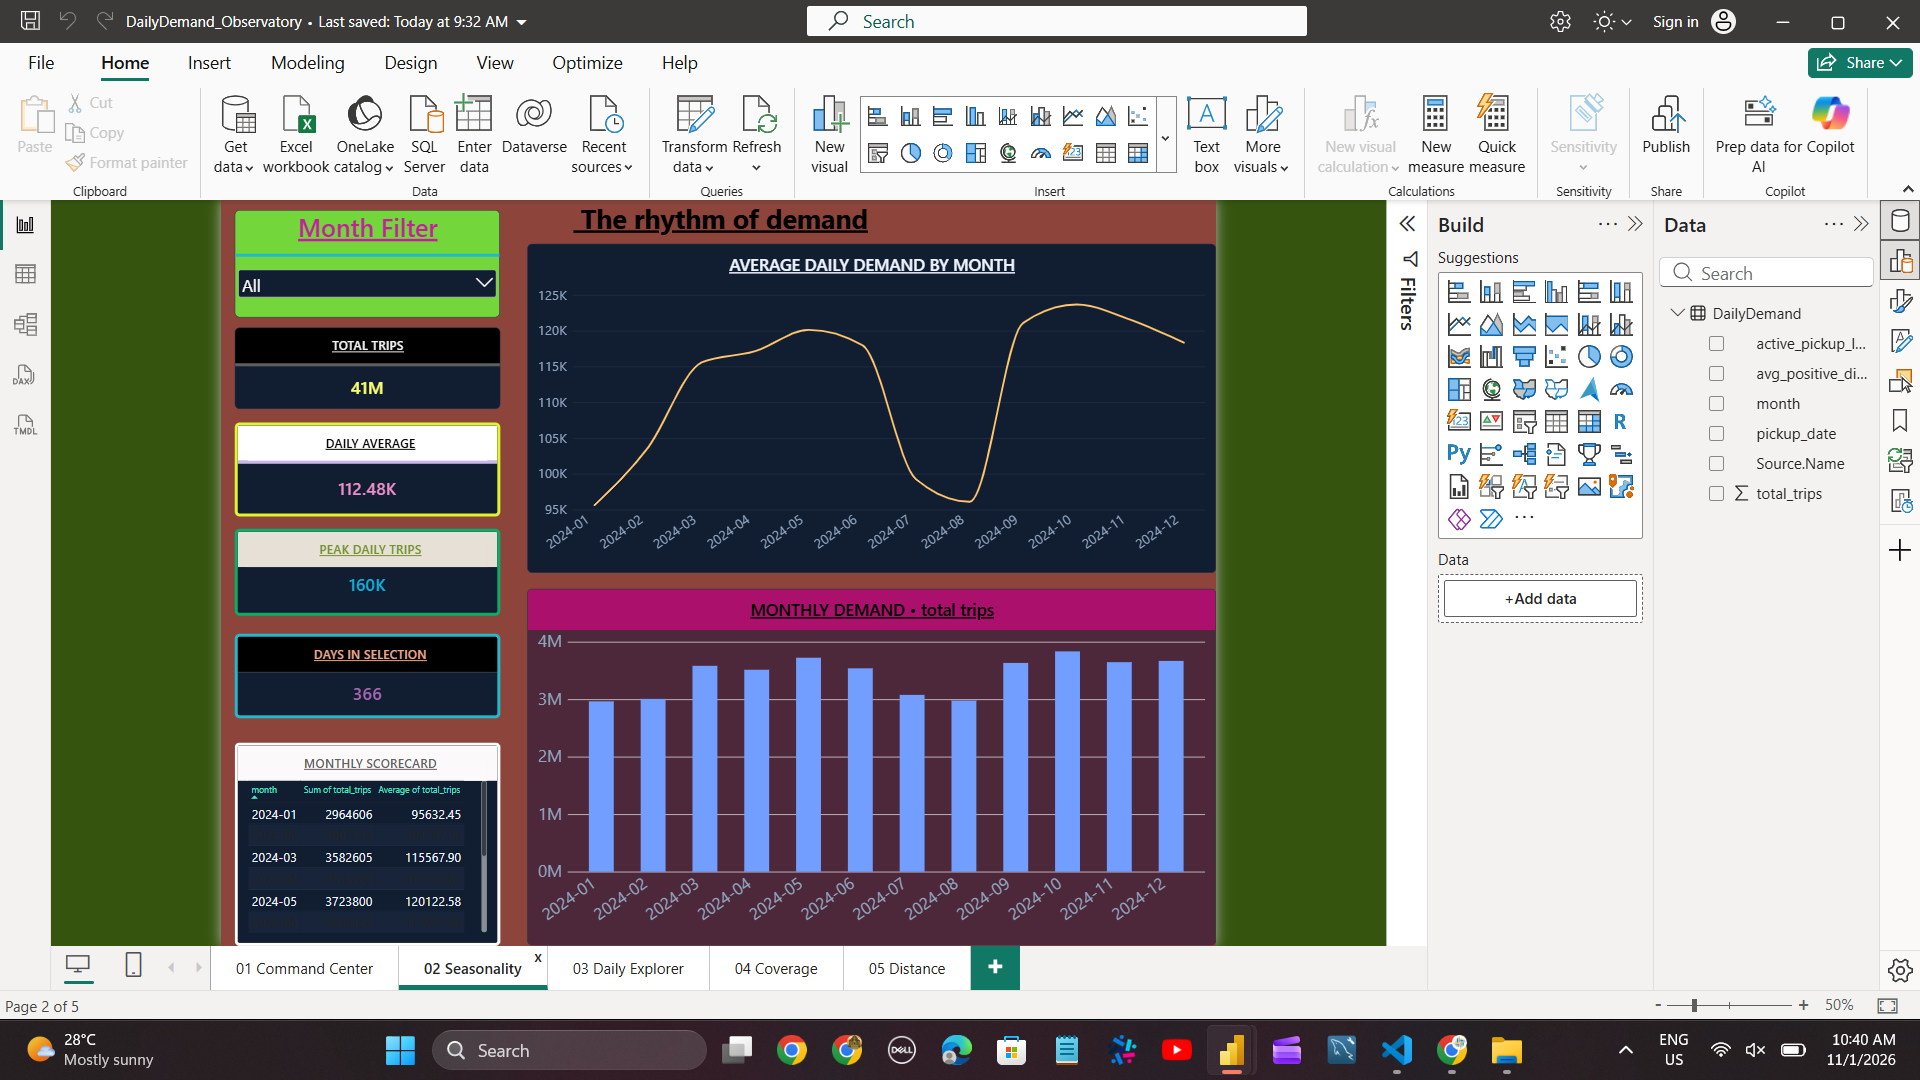

This screenshot's page, from the dashboard's own definition file:
{"tool":"powerbi","page":{"name":"02  Seasonality","canvas":[1600,1200],"ordinal":1},"visuals":[{"type":"textbox","box":[402.1,0,1198.4,62.3],"z":0},{"type":"slicer","title":"Month Filter","fields":{"Values":["DailyDemand.month"]},"box":[22.1,16.1,426.3,172.9],"z":1000},{"type":"card","title":"TOTAL TRIPS","fields":{"Values":["Sum(DailyDemand.total_trips)"]},"box":[22.2,204.7,427.1,131.3],"z":2000},{"type":"card","title":"DAILY AVERAGE","fields":{"Values":["Avg(DailyDemand.total_trips)"]},"box":[22.2,358.2,427.1,151.3],"z":3000},{"type":"card","title":"PEAK DAILY TRIPS","fields":{"Values":["Max(DailyDemand.total_trips)"]},"box":[22.2,529.5,427.1,140.2],"z":4000},{"type":"card","title":"DAYS IN SELECTION","fields":{"Values":["CountNonNull(DailyDemand.pickup_date)"]},"box":[22.2,698.6,427.1,135.7],"z":5000},{"type":"clusteredColumnChart","title":" MONTHLY DEMAND  •  total trips","fields":{"Category":["DailyDemand.month"],"Y":["Sum(DailyDemand.total_trips)"]},"box":[491.7,625.1,1107.9,574],"z":6000},{"type":"lineChart","title":" AVERAGE DAILY DEMAND BY MONTH","fields":{"Category":["DailyDemand.month"],"Y":["Avg(DailyDemand.total_trips)"]},"box":[491.7,71.2,1107.9,529.5],"z":7000},{"type":"tableEx","title":"MONTHLY SCORECARD","fields":{"Values":["DailyDemand.month","Sum(DailyDemand.total_trips)","Avg(DailyDemand.total_trips)"]},"box":[22.2,872.1,427.1,327],"z":8000}]}

Visuals, with their boxes on the page's 1600x1200 design canvas (x1, y1, x2, y2). These are canvas units, not pixel positions in the 1920x1080 screenshot, which may show the page scaled, cropped or inside an application window:
textbox: locate(402, 0, 1600, 62)
"Month Filter" slicer: locate(22, 16, 448, 189)
"TOTAL TRIPS" card: locate(22, 205, 449, 336)
"DAILY AVERAGE" card: locate(22, 358, 449, 510)
"PEAK DAILY TRIPS" card: locate(22, 530, 449, 670)
"DAYS IN SELECTION" card: locate(22, 699, 449, 834)
" MONTHLY DEMAND  •  total trips" clusteredColumnChart: locate(492, 625, 1600, 1199)
" AVERAGE DAILY DEMAND BY MONTH" lineChart: locate(492, 71, 1600, 601)
"MONTHLY SCORECARD" tableEx: locate(22, 872, 449, 1199)
